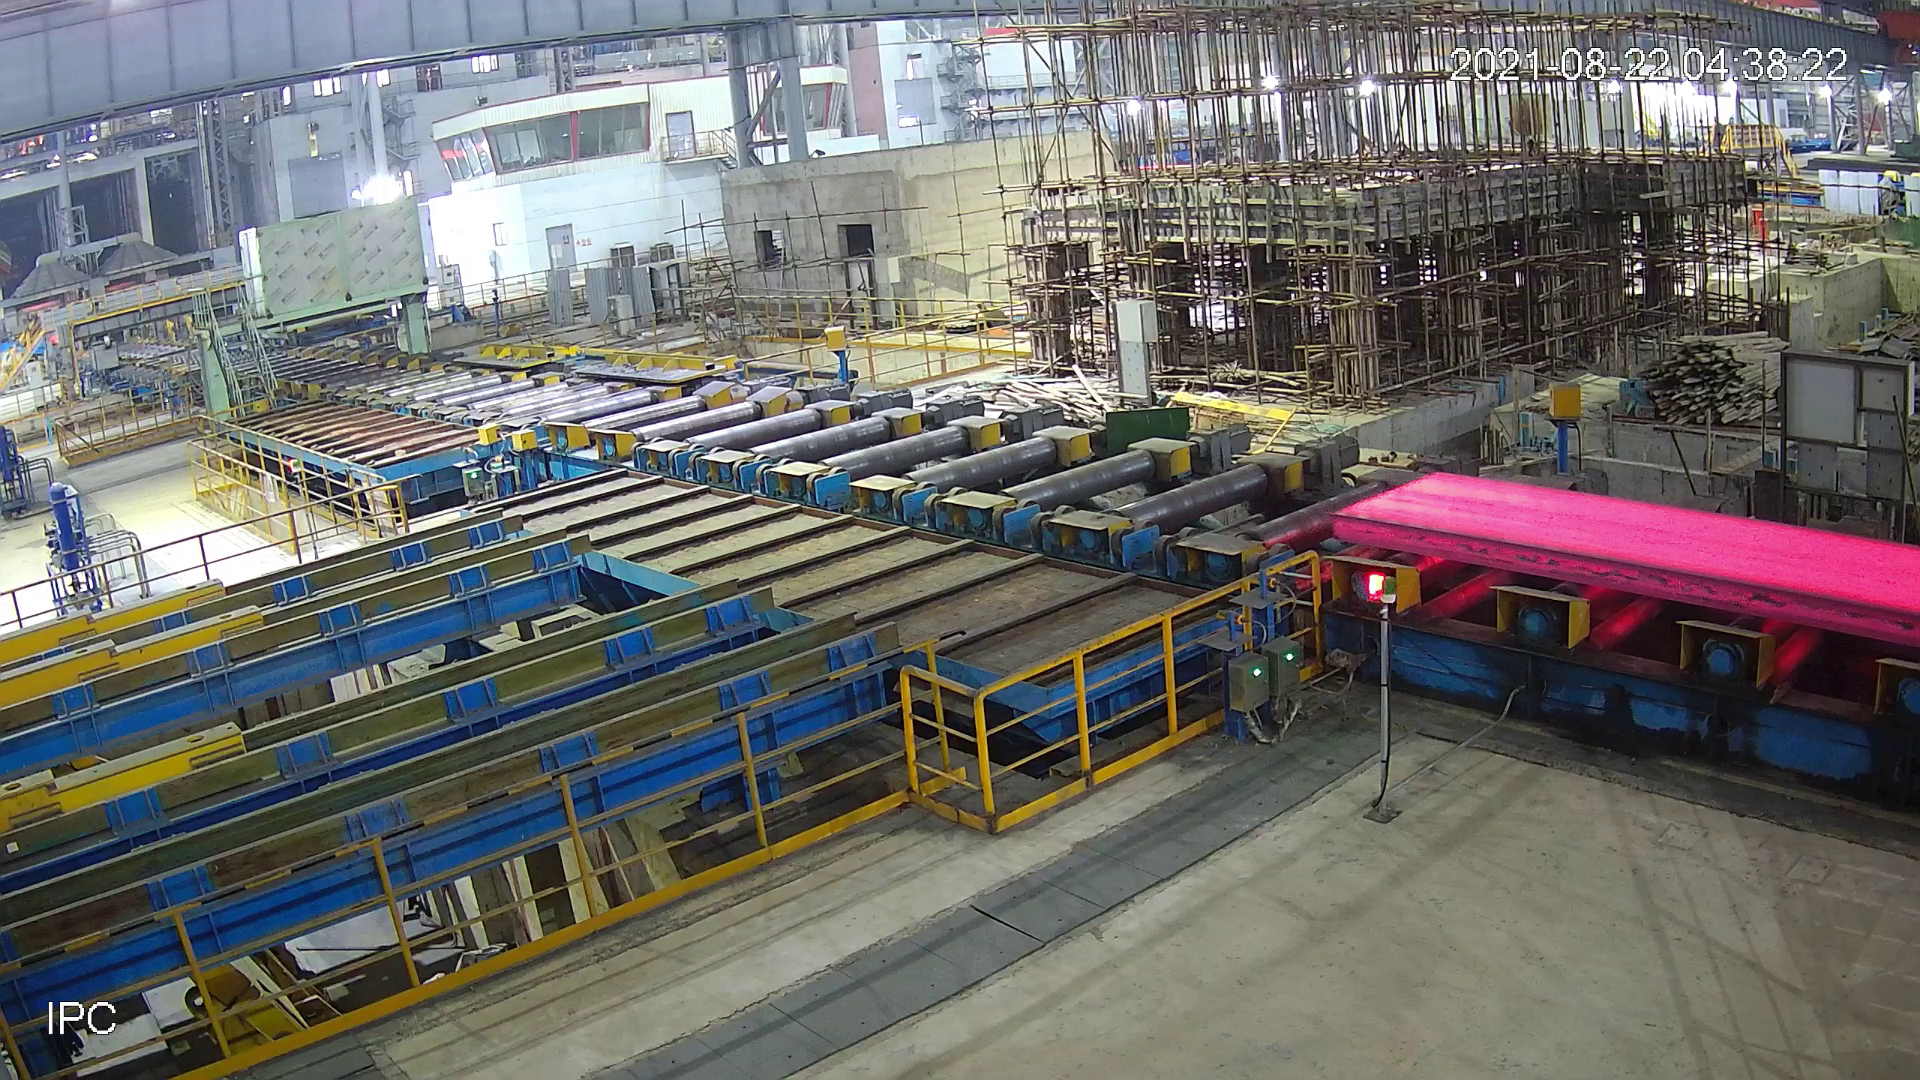slab: (1329, 460, 1920, 658)
